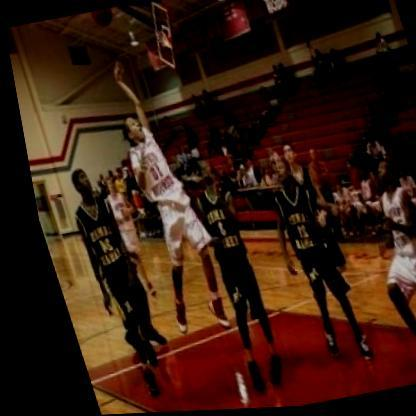basketball: (87, 8, 118, 30)
